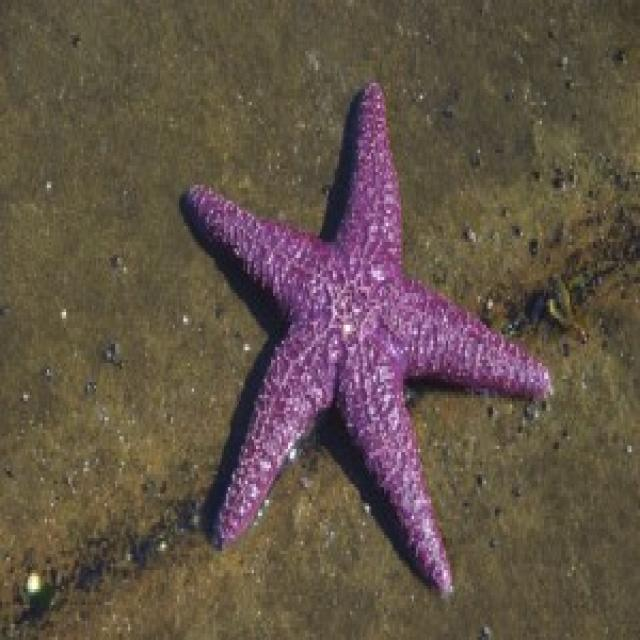Starfish: (177, 79, 556, 596)
